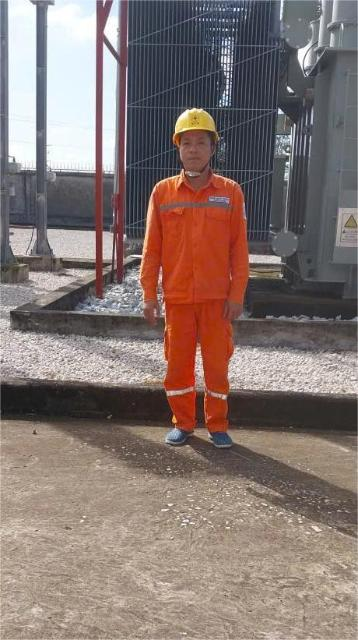helmet: (168, 95, 232, 146)
shoes: (196, 424, 239, 452), (164, 423, 196, 451)
